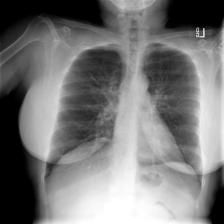normal: (39, 40, 208, 209)
